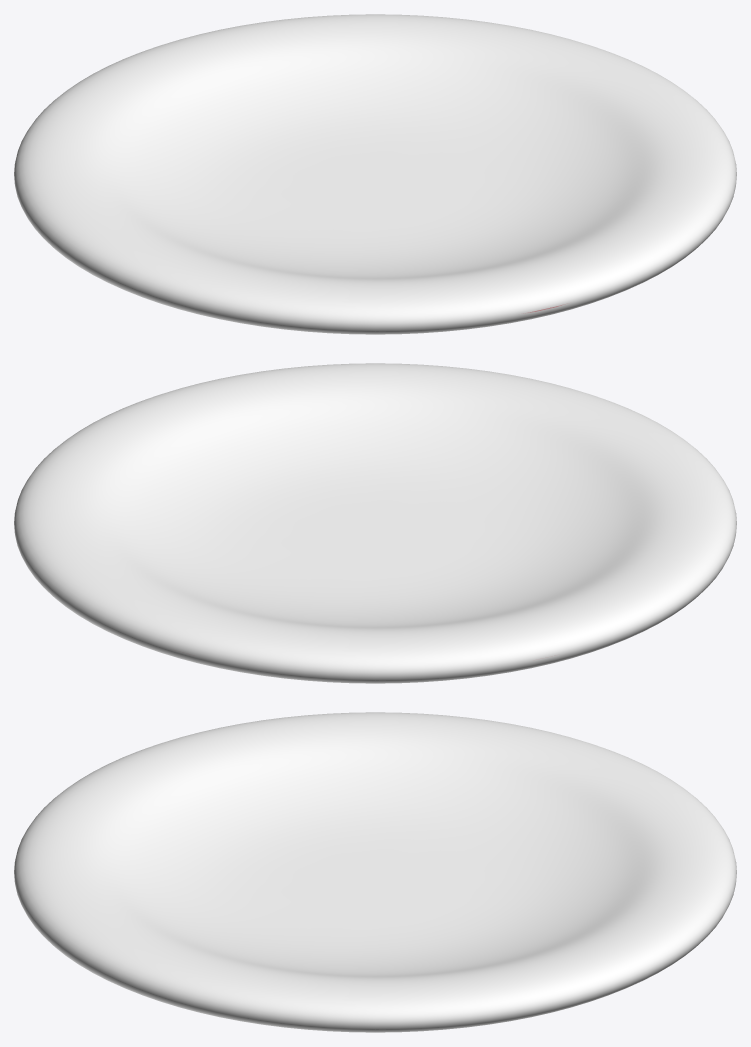
File: SM_Dish02.fbx
3 renders of one model, top to bottom at view 1: azimuth 30°, elevation 25°; view 2: azimuth 150°, elevation 25°; view 3: azimuth 270°, elevation 25°, orthographic.
Parts seen in each view (by area): view 1: SM_Dish02; view 2: SM_Dish02; view 3: SM_Dish02.
Boxes of the visible parts, x1,y1,x2,y2 form: SM_Dish02: (14,14,736,334); SM_Dish02: (14,363,736,683); SM_Dish02: (14,712,736,1032).
Bounding box in the file's own units: 86.42 × 8.58 × 86.42.
